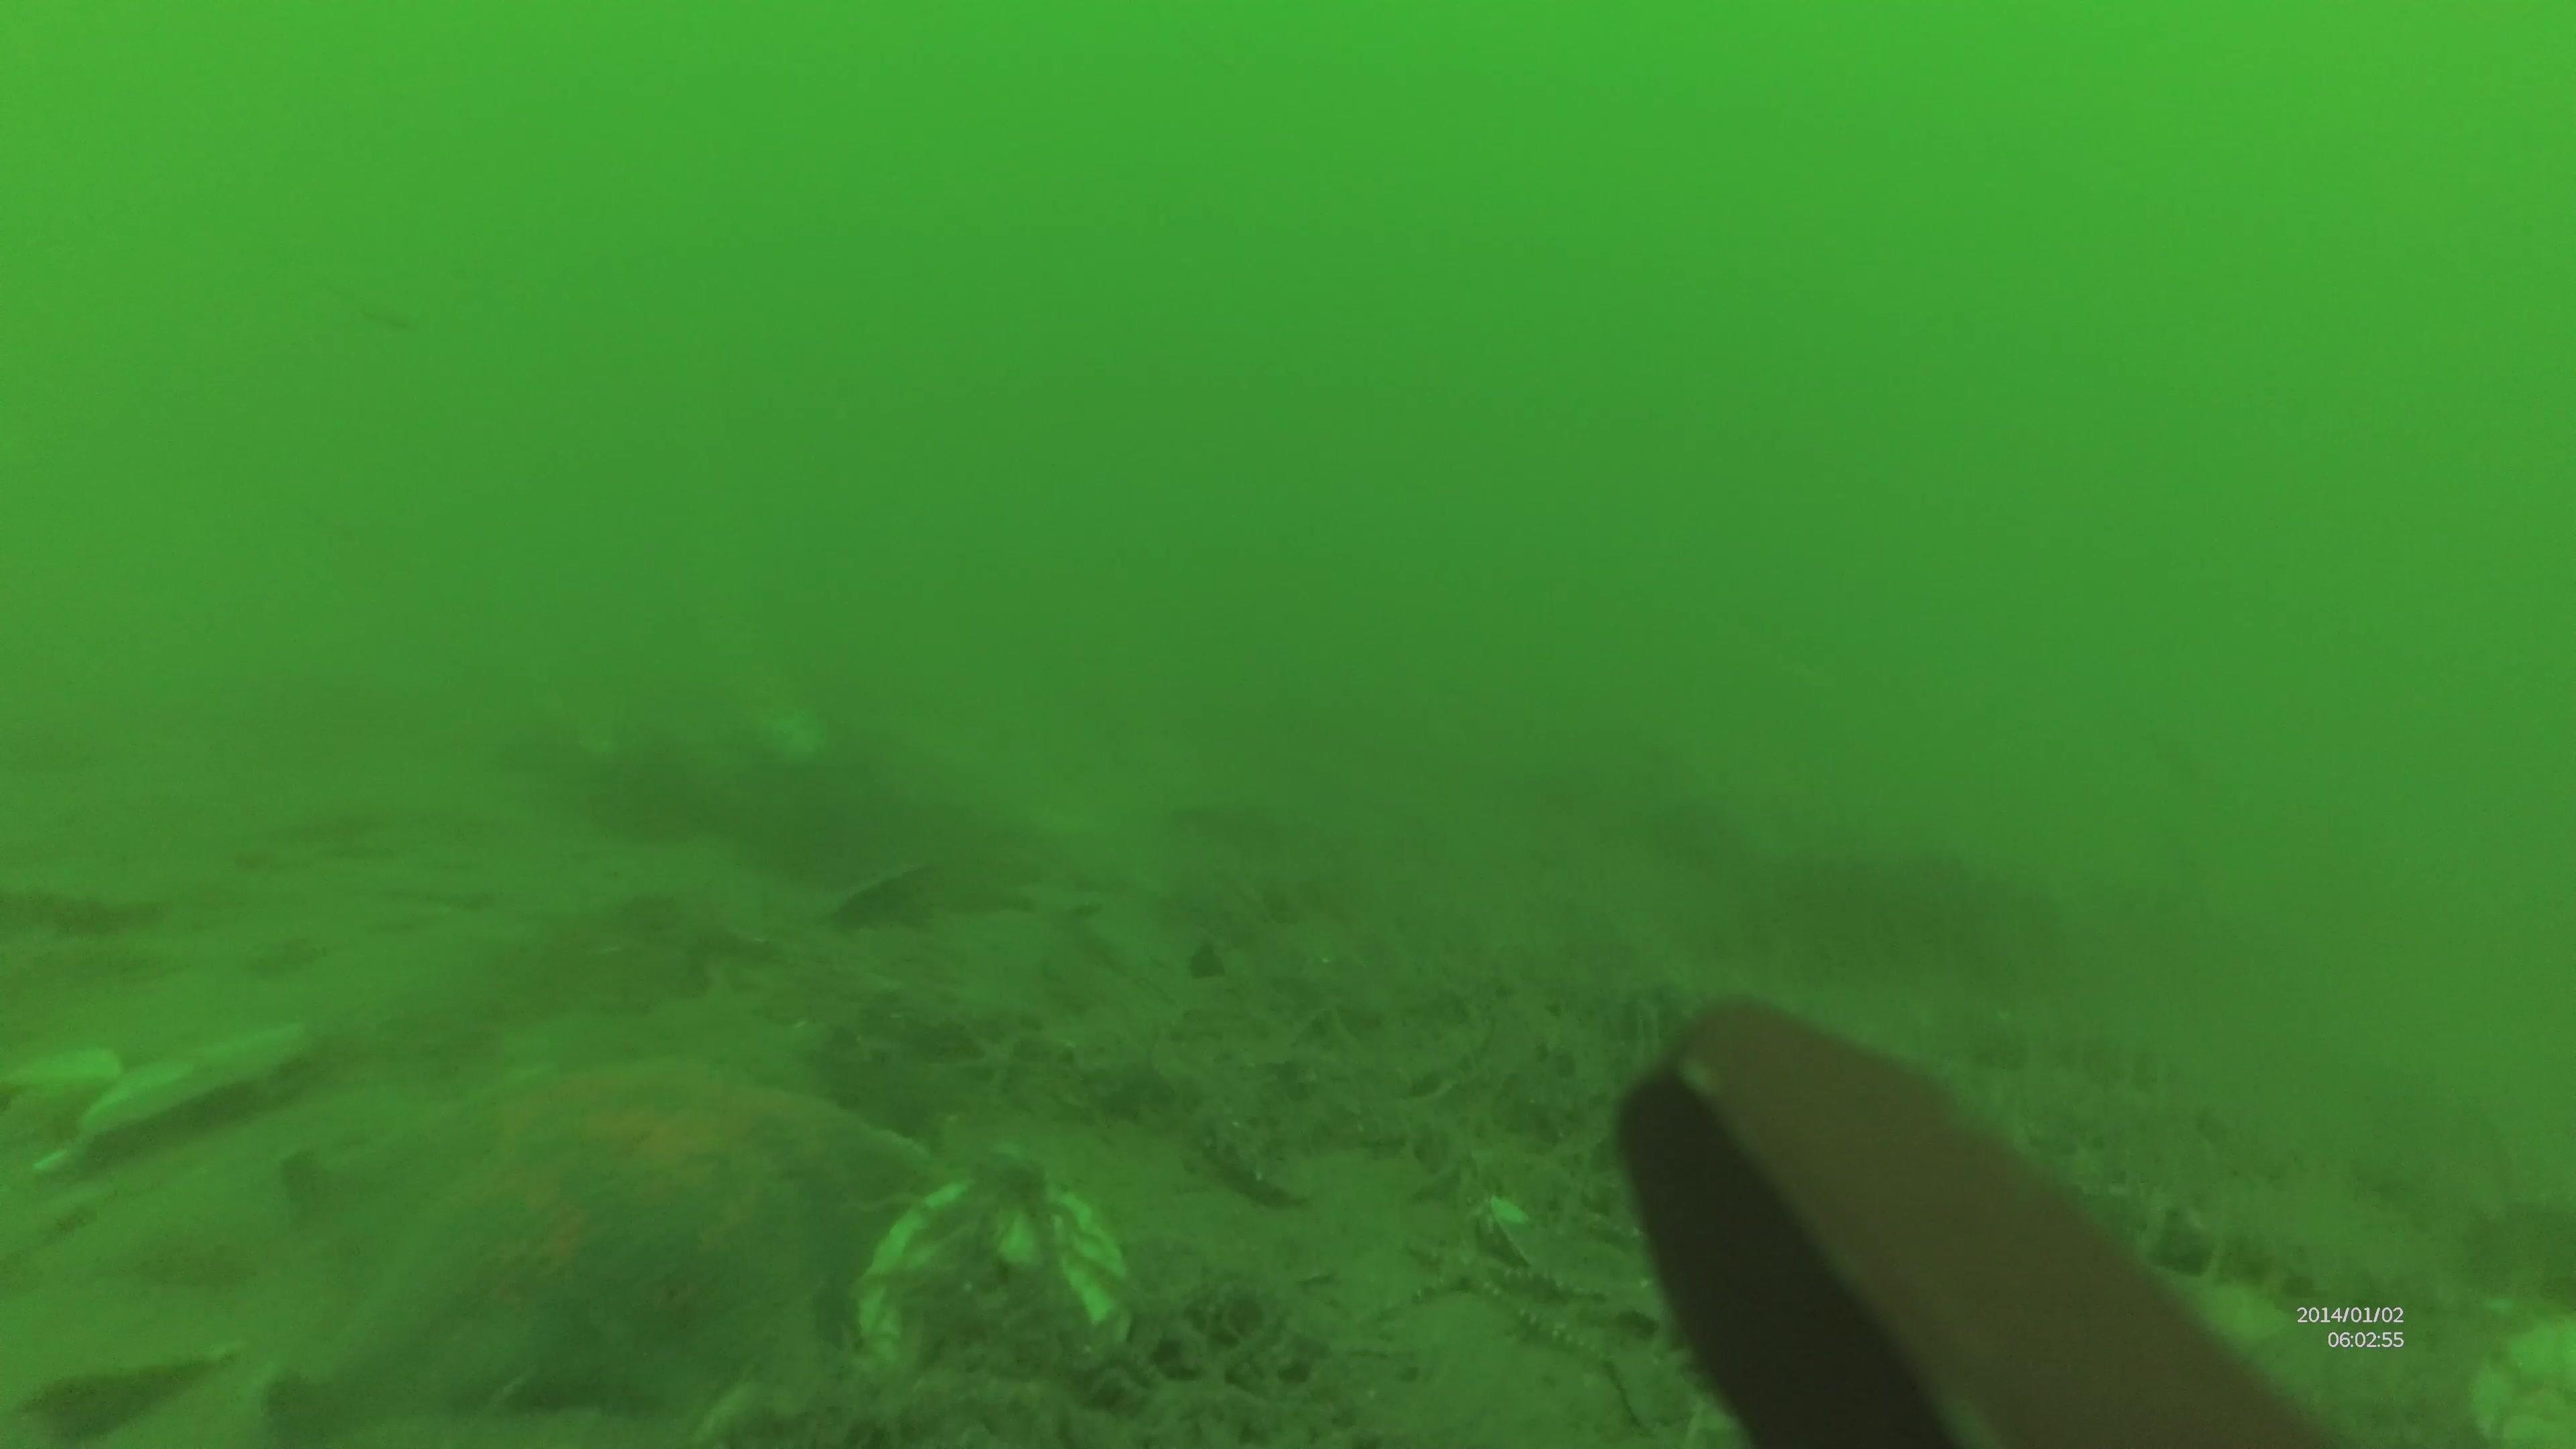scallop: (853, 1157, 1134, 1384), (69, 1026, 326, 1166), (9, 1047, 127, 1118)
starfish: (274, 1031, 957, 1449), (1394, 1210, 1568, 1332)
